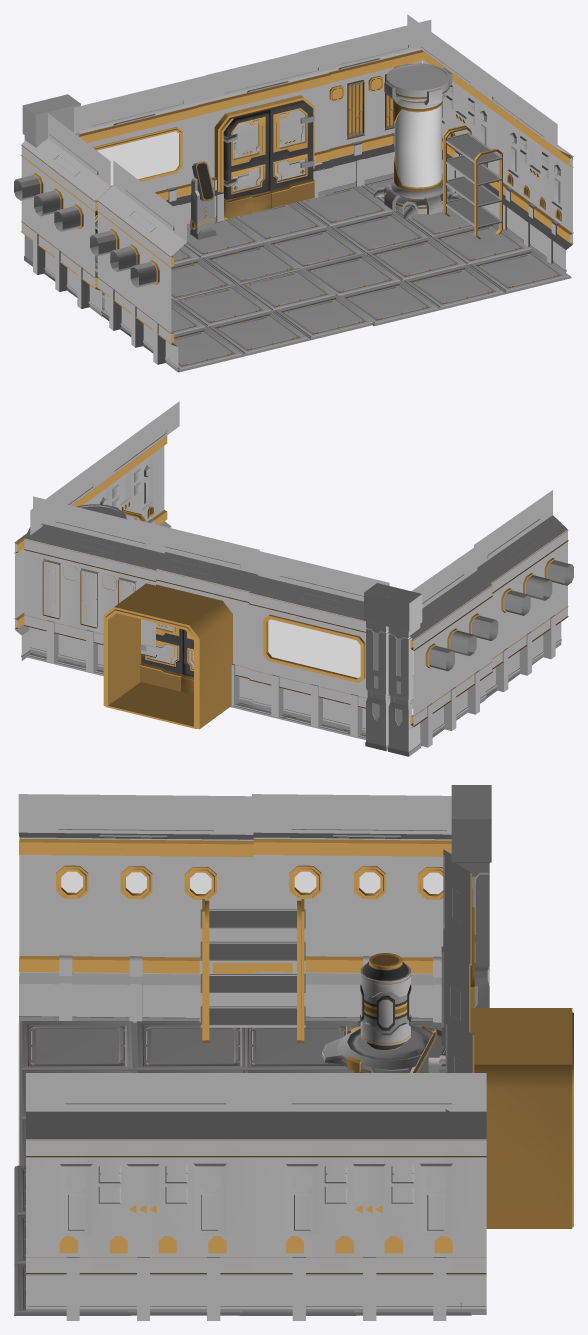
The model's file is office_2.fbx.
The picture shows the model from 3 angles, top to bottom: view 1: azimuth 30°, elevation 25°; view 2: azimuth 150°, elevation 25°; view 3: azimuth 270°, elevation 25°; orthographic projection. The views are drawn at different scales.
Visible parts, largest first — view 1: Object_8, Object_9, Object_3, Object_6, Object_7, Object_4, Object_5, Object_2; view 2: Object_8, Object_3, Object_7, Object_5, Object_6, Object_4; view 3: Object_8, Object_3, Object_6, Object_9, Object_7, Object_4.
Part boxes in pixels (x1,y1,x2,y2): Object_8: (14,14,572,368); Object_9: (69,195,473,372); Object_3: (21,50,573,365); Object_6: (24,58,566,372); Object_7: (97,105,441,187); Object_4: (95,84,393,262); Object_5: (191,73,560,227); Object_2: (191,177,214,233); Object_8: (15,401,573,752); Object_3: (14,435,568,734); Object_7: (268,619,413,725); Object_5: (42,507,193,694); Object_6: (21,539,561,756); Object_4: (141,628,193,677); Object_8: (14,785,491,1320); Object_3: (19,838,573,1305); Object_6: (19,835,486,1314); Object_9: (18,1021,356,1315); Object_7: (61,837,488,1007); Object_4: (360,961,435,1072).
Bounding box in the file's own units: 95492 × 128254 × 45030.
